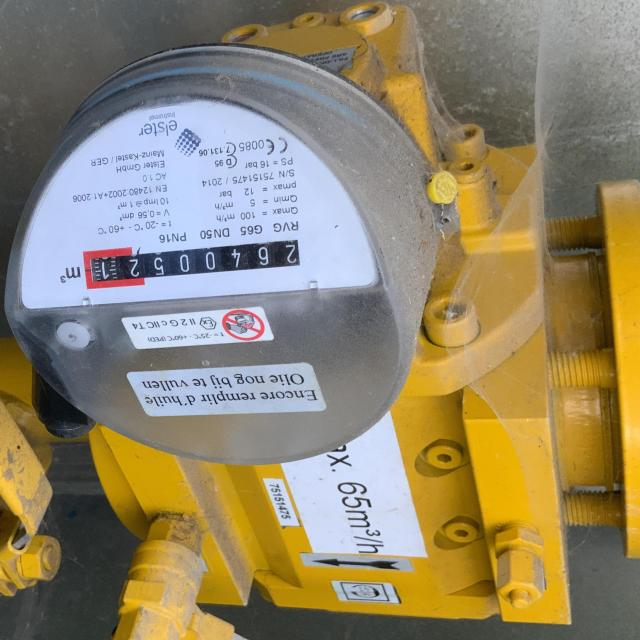gaz_meter: (17, 52, 406, 464)
indication: (82, 239, 302, 289)
